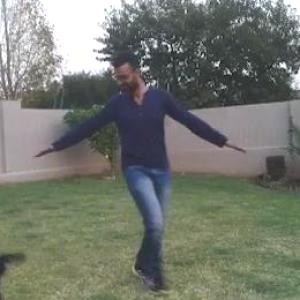land: (30, 54, 219, 264)
